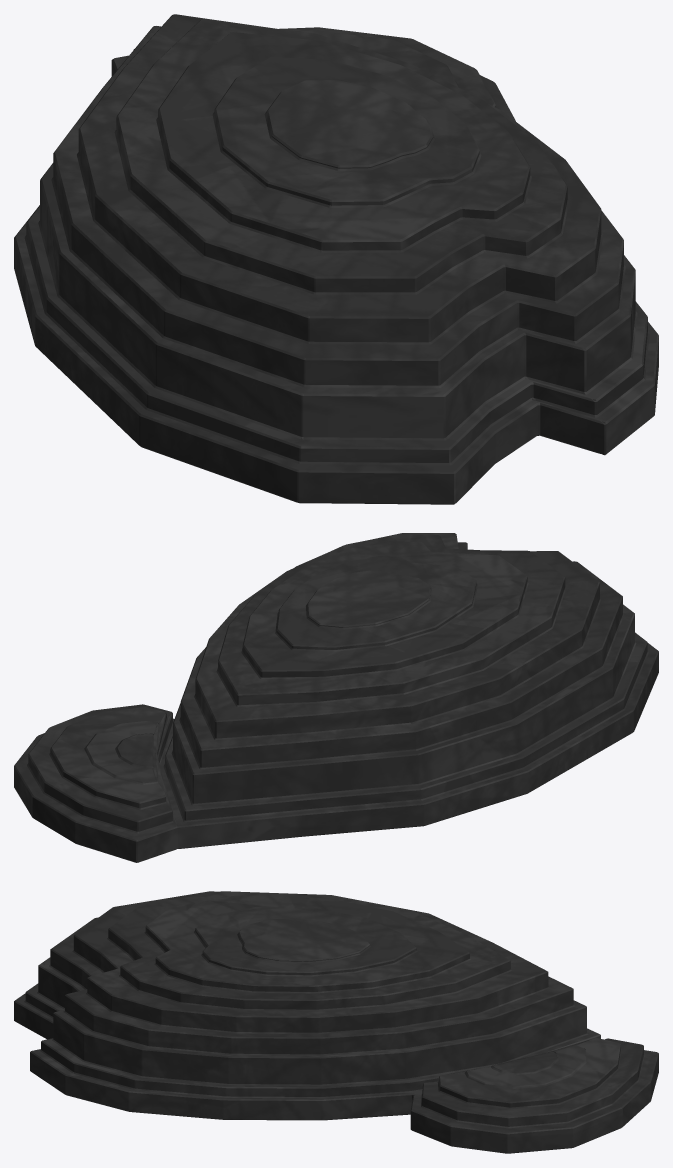
The model's file is Tutorial_canyonLargeFormation.fbx.
3 renders of one model, top to bottom at view 1: azimuth 30°, elevation 25°; view 2: azimuth 150°, elevation 25°; view 3: azimuth 270°, elevation 25°, orthographic. The views are drawn at different scales.
Visible parts, largest first — view 1: canyonLargeFormation; view 2: canyonLargeFormation; view 3: canyonLargeFormation.
Boxes of the visible parts, x1,y1,x2,y2 form: canyonLargeFormation: [14, 14, 658, 504]; canyonLargeFormation: [14, 533, 658, 862]; canyonLargeFormation: [14, 891, 658, 1153].
Size of the model in its own units: 38.46 by 11.32 by 55.91.
1 material, 1 textured.
